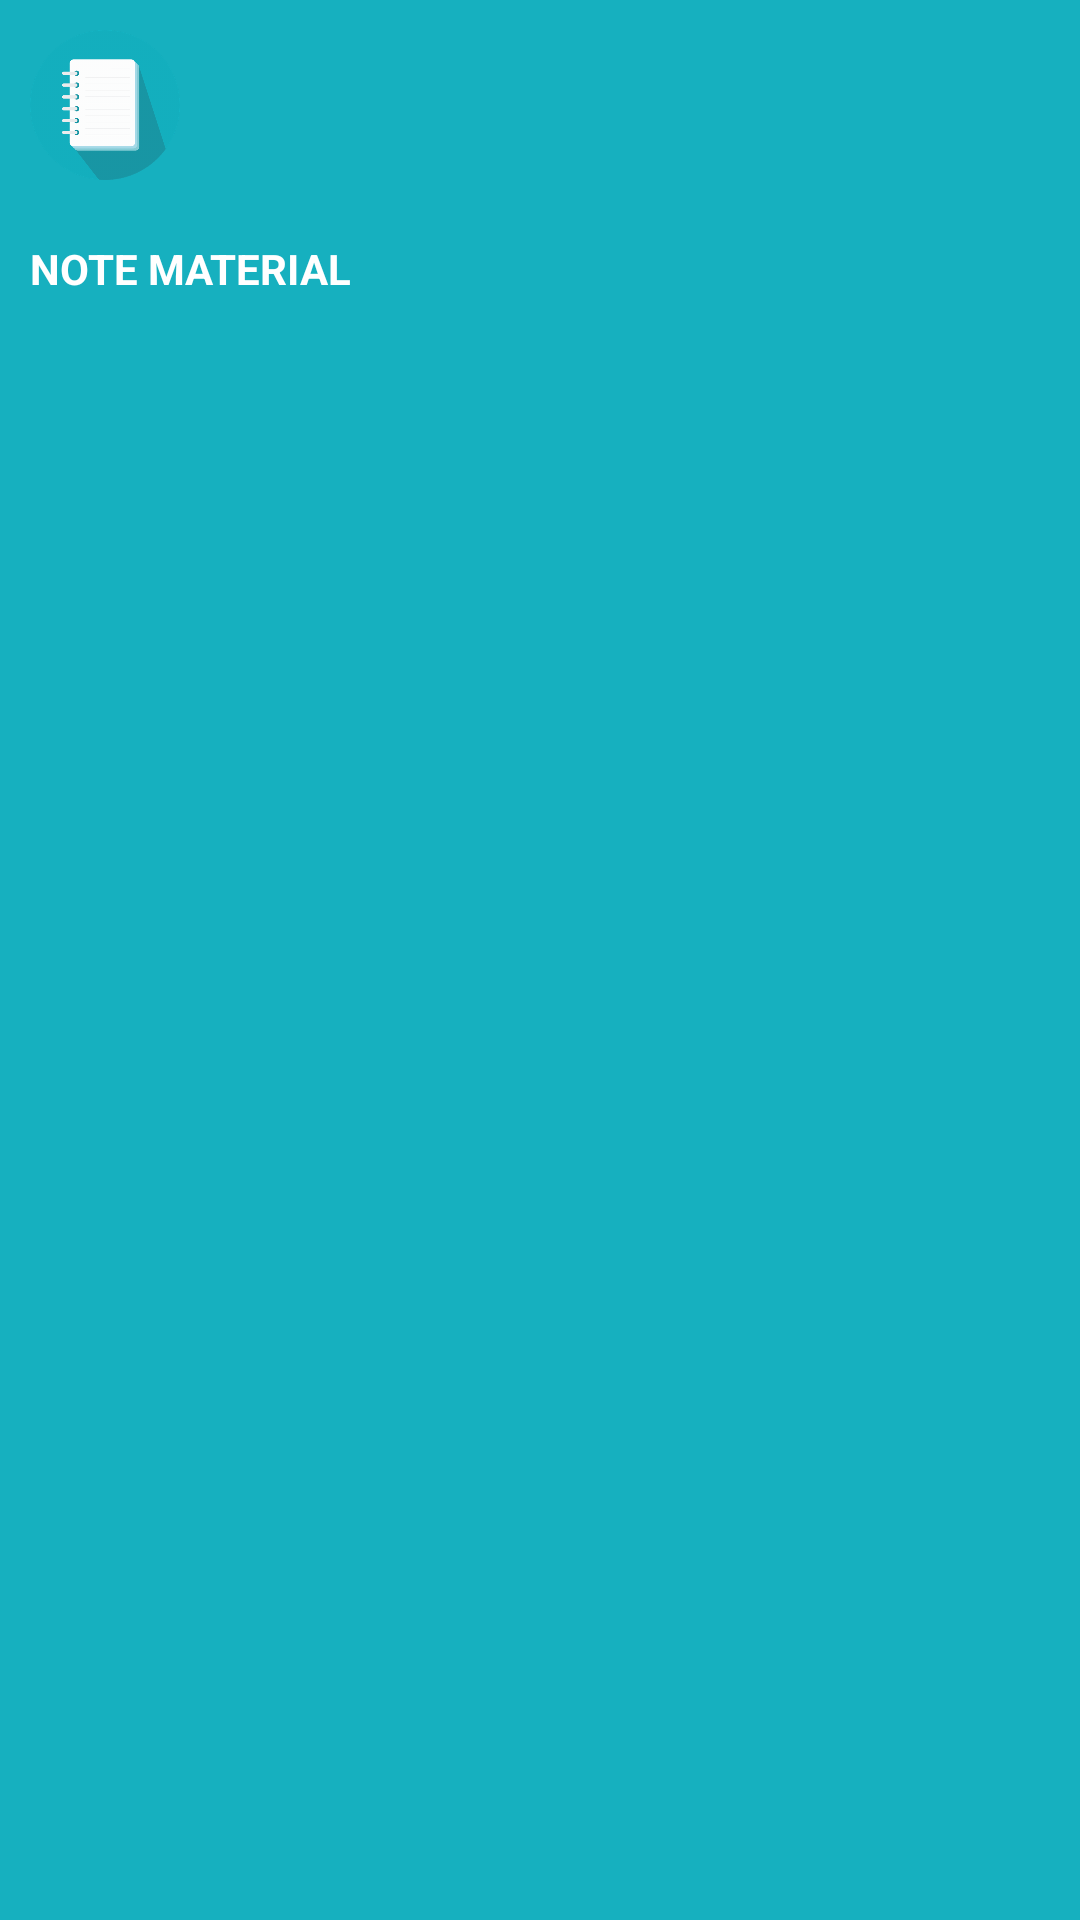

Named icons in this screenshot (1080*1920) and their centers, point (x, y):
memo: point (113, 119)
